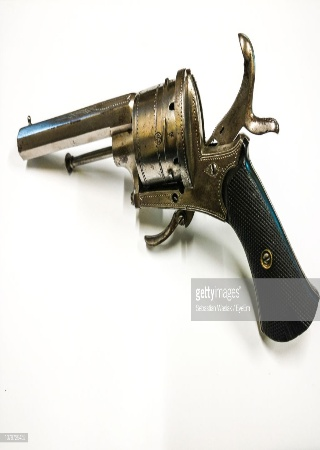handgun: (16, 26, 320, 342)
